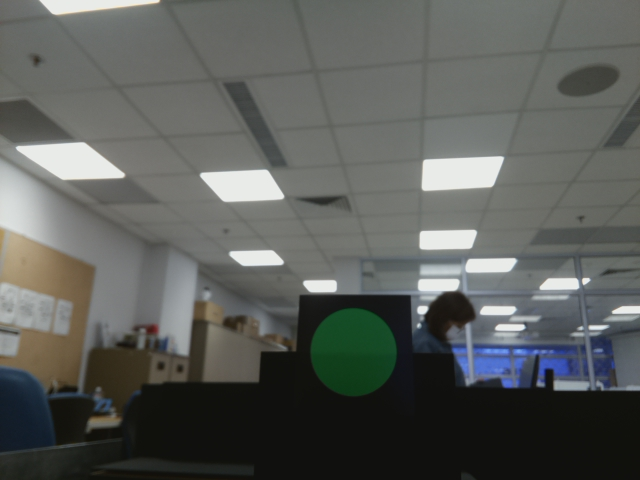go: (311, 298, 401, 402)
